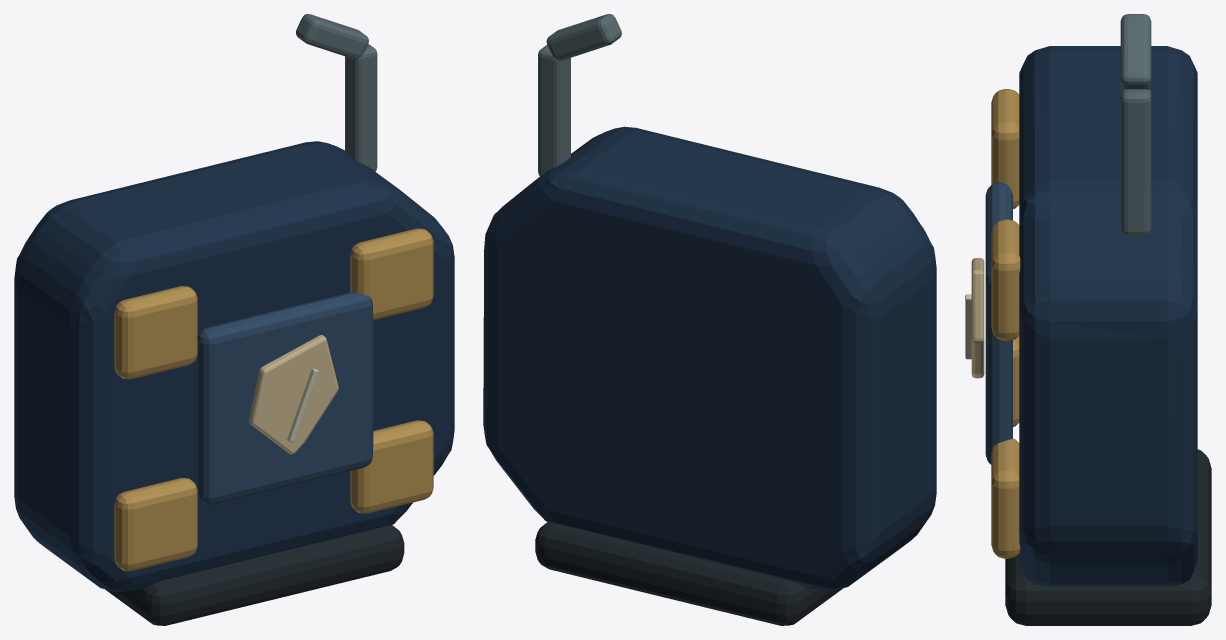
Rendered from REVIVE_TOKEN.hi.glb.
3 views of the same model, side by side, from view 1: azimuth 30°, elevation 25°; view 2: azimuth 150°, elevation 25°; view 3: azimuth 270°, elevation 25° (orthographic). The views are drawn at different scales.
Visible parts, largest first — view 1: Body_Mesh; view 2: Body_Mesh; view 3: Body_Mesh.
Part boxes in pixels (bbox=[...]): Body_Mesh: bbox=[14, 14, 454, 625]; Body_Mesh: bbox=[483, 14, 936, 625]; Body_Mesh: bbox=[965, 14, 1211, 625].
Size of the model in its own units: 0.73 by 0.9557 by 0.3583.
